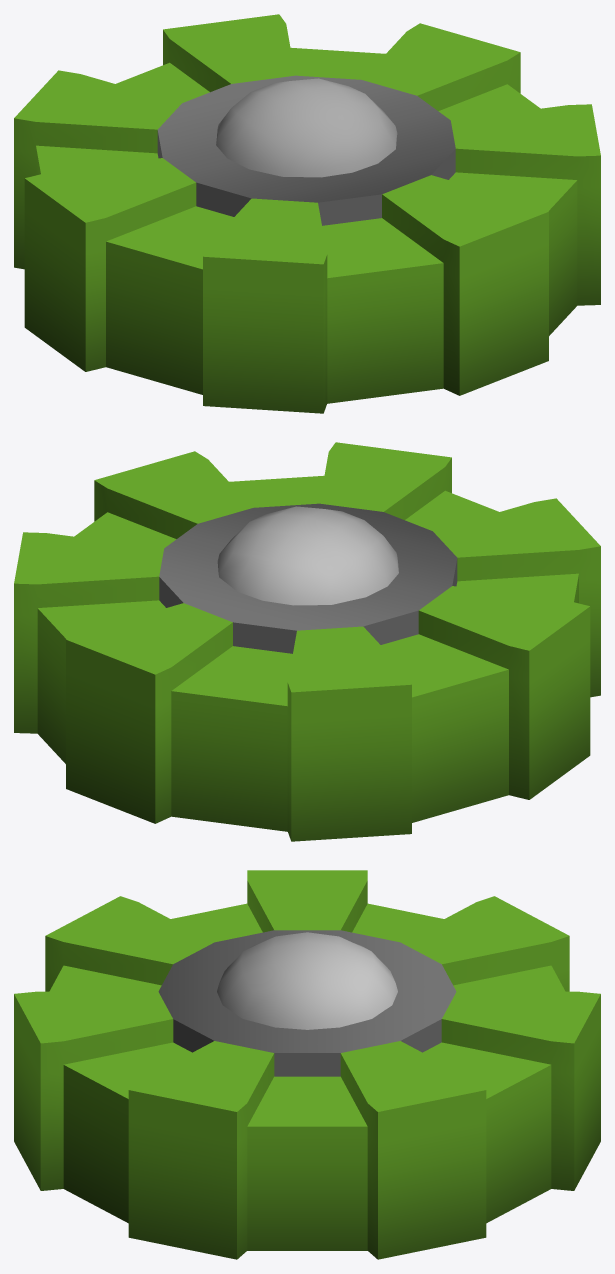
File: Mine.fbx
The picture shows the model from 3 angles, top to bottom: view 1: azimuth 30°, elevation 25°; view 2: azimuth 150°, elevation 25°; view 3: azimuth 270°, elevation 25°; orthographic projection.
Visible parts, largest first — view 1: MineMesh, MineColorMesh; view 2: MineMesh, MineColorMesh; view 3: MineMesh, MineColorMesh.
Boxes of the visible parts, box(x1,y1,x2,y2) form: MineMesh: box(14, 14, 600, 413); MineColorMesh: box(216, 78, 397, 177); MineMesh: box(14, 442, 600, 841); MineColorMesh: box(217, 506, 398, 605); MineMesh: box(14, 870, 600, 1259); MineColorMesh: box(217, 932, 397, 1029).
Size of the model in its own units: 47.95 by 18.21 by 49.19.
